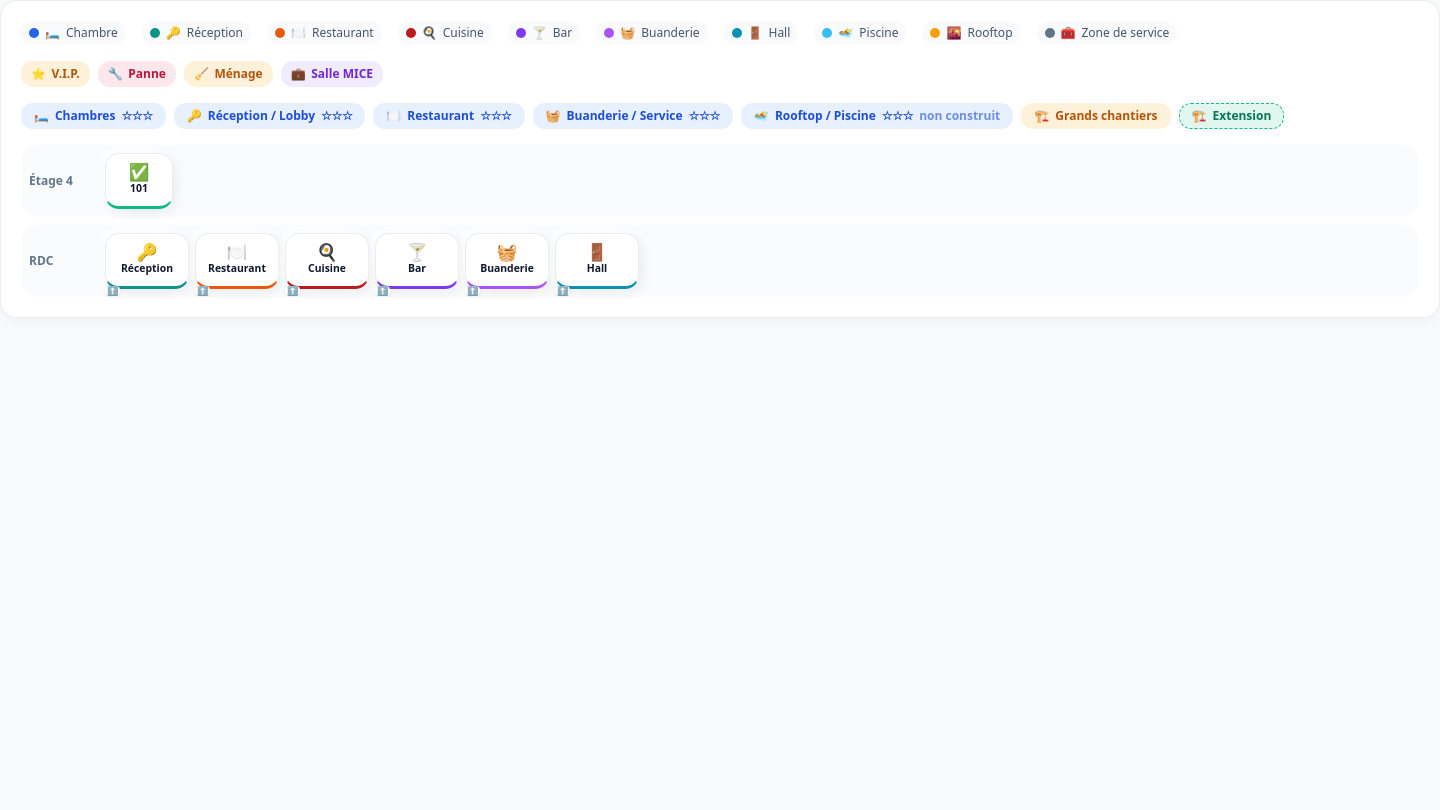
it: SchematicHotelView / opening the expansion modal › the Extension chip opens it
The width and height of the screenshot is (1440, 810).
Click the button with test id "schematic-expansion": {"x": 1232, "y": 116} [1179,103,1284,129]
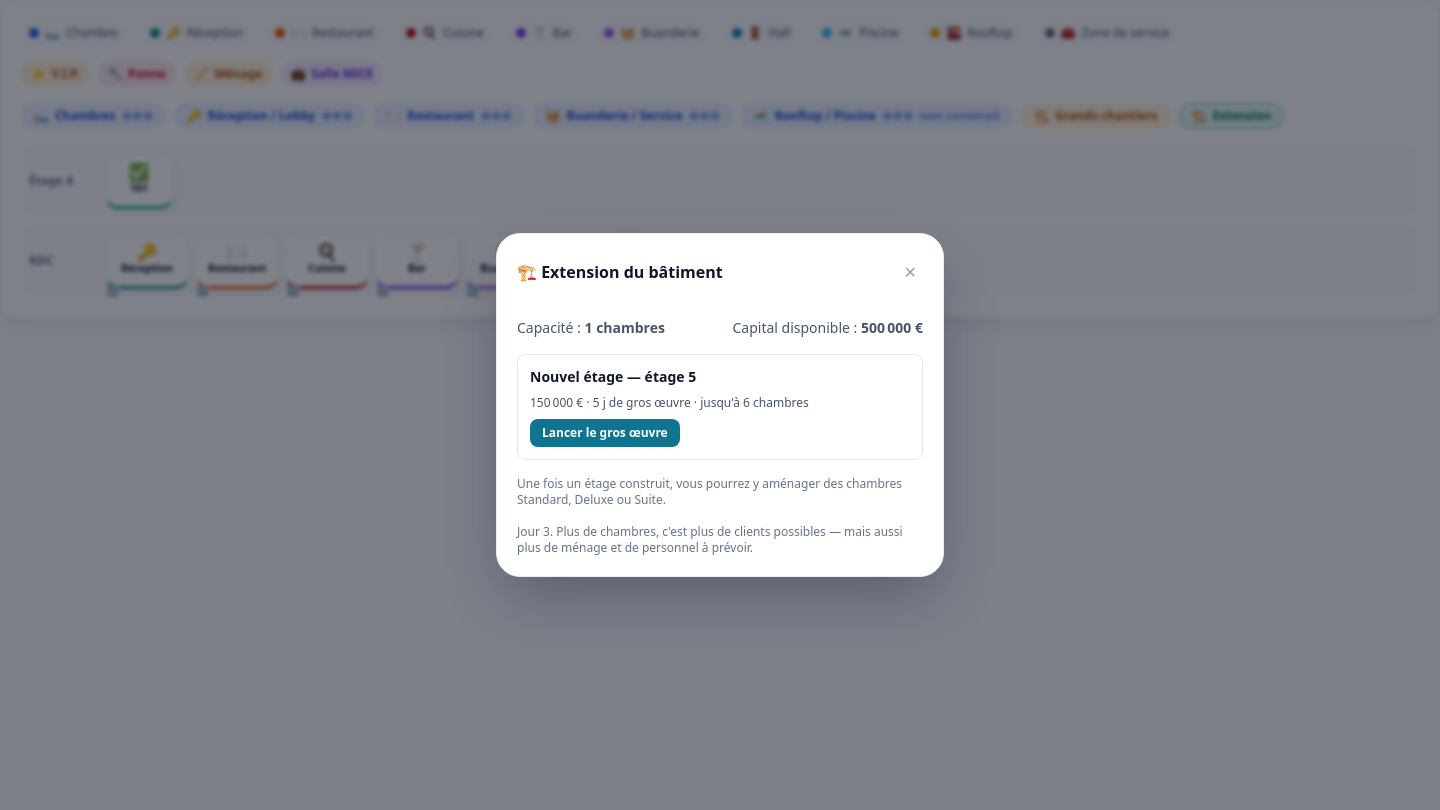
Expected: the dialog "Extension du bâtiment" is shown
